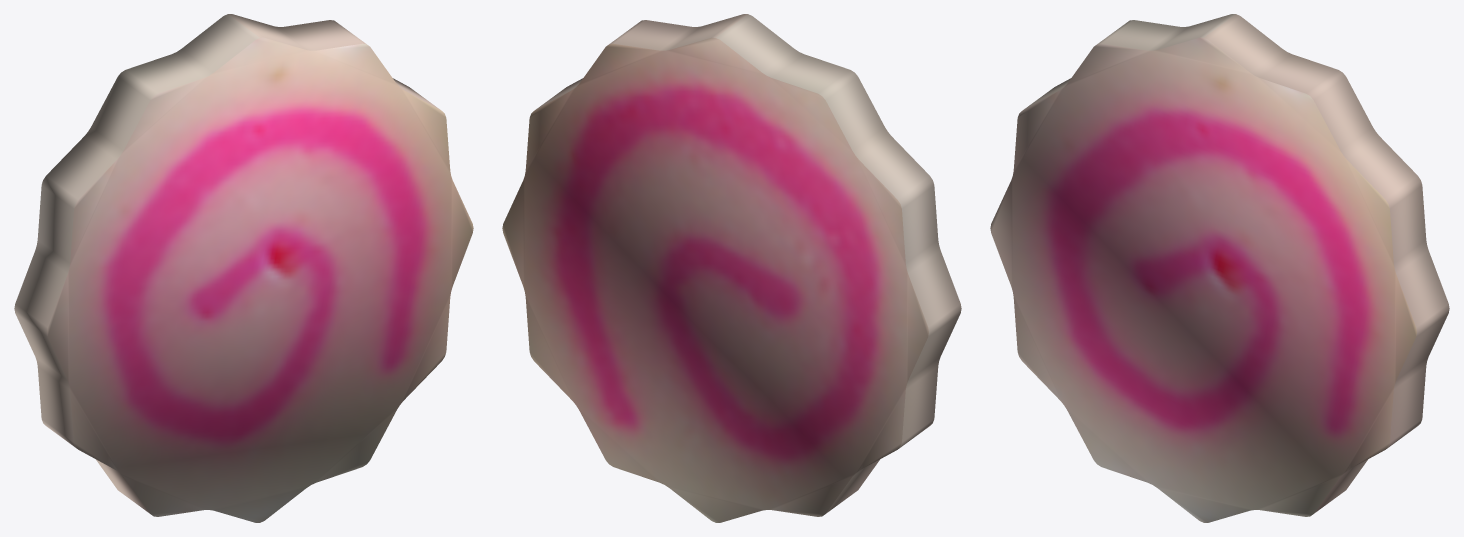
Rendered from Naruto Cake.fbx.
3 views of the same model, side by side, from view 1: azimuth 30°, elevation 25°; view 2: azimuth 150°, elevation 25°; view 3: azimuth 330°, elevation 25° (orthographic).
Parts seen in each view (by area): view 1: Naruto_Cake; view 2: Naruto_Cake; view 3: Naruto_Cake.
Boxes of the visible parts, x1,y1,x2,y2 form: Naruto_Cake: (14, 14, 473, 522); Naruto_Cake: (502, 14, 961, 522); Naruto_Cake: (990, 14, 1449, 522).
Bounding box in the file's own units: 87.52 × 95.06 × 11.54.
